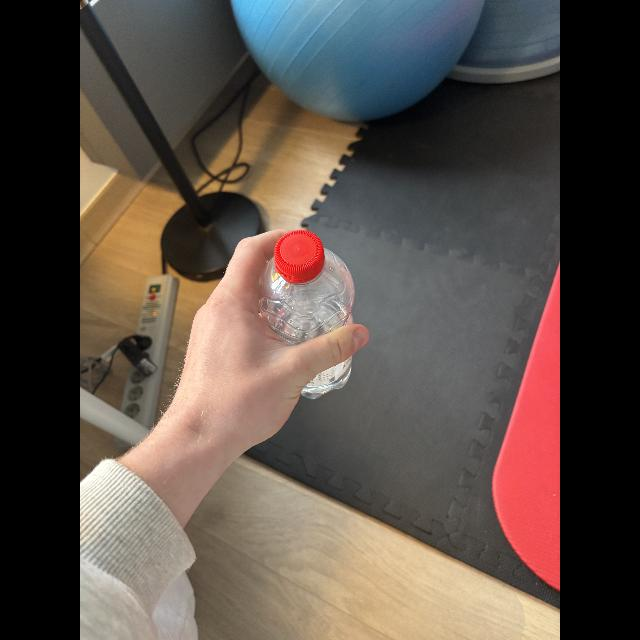Plastic: (256, 231, 356, 401)
